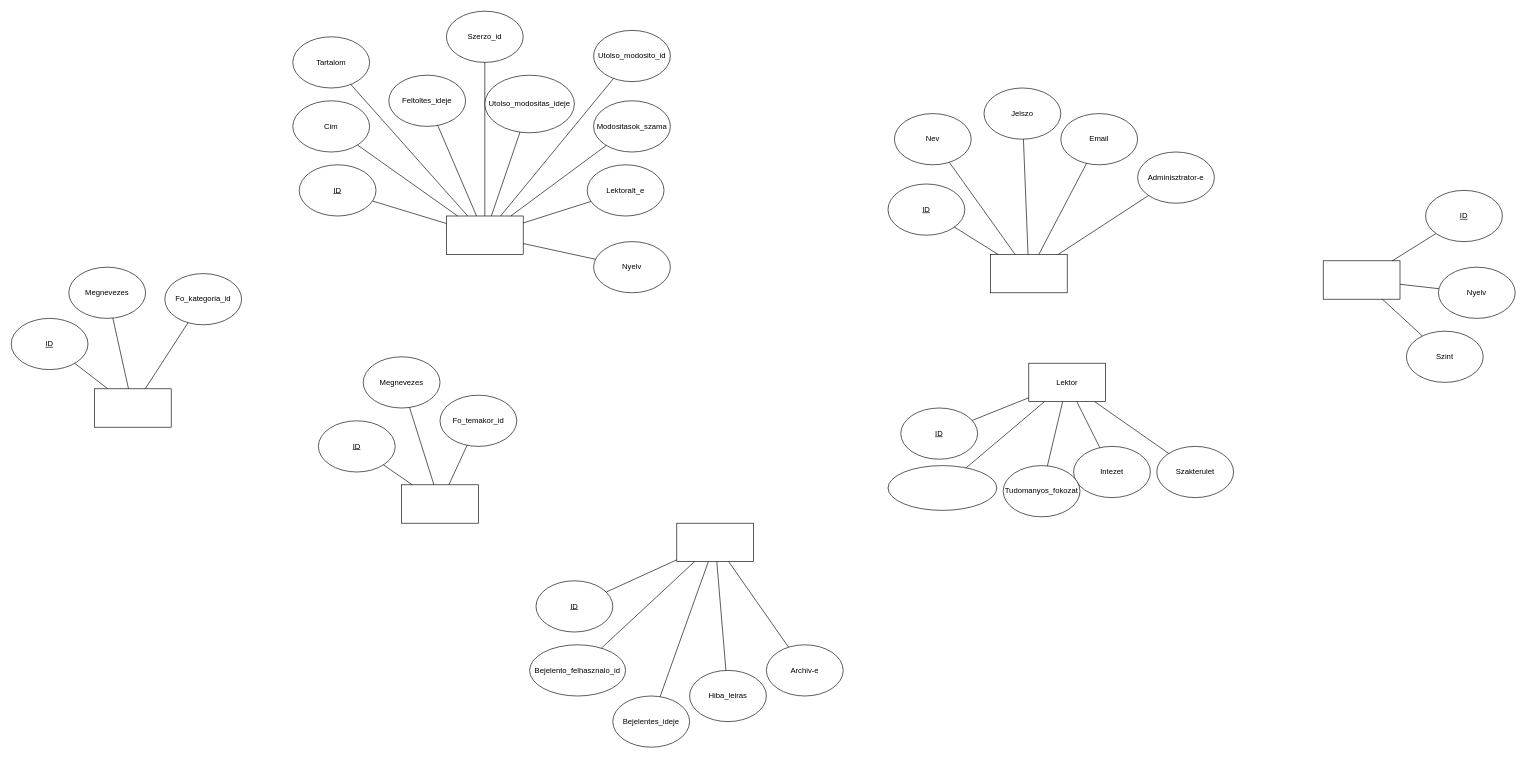
The diagram is 1526 pixels wide and 758 high, and some of its shapes have lost their labels. Each missing label, with the centre of its shape:
"Cikk" belongs at [484,234].
"Felhasznalo" belongs at [1028,273].
"Felhasznalo_adatok_id" belongs at [942,487].
"Hiba" belongs at [715,542].
"Kategoria" belongs at [132,407].
"Nyelvtudas" belongs at [1361,279].
"Temakor" belongs at [439,503].
